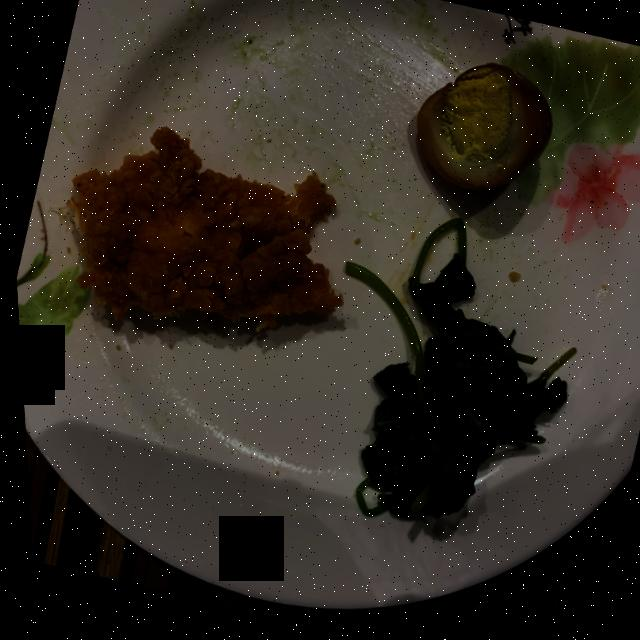coin: (460, 601, 519, 622)
fried chicken cutlet: (67, 127, 338, 330)
soy egg: (415, 67, 550, 194)
sweet potato leaves: (341, 222, 569, 521)
